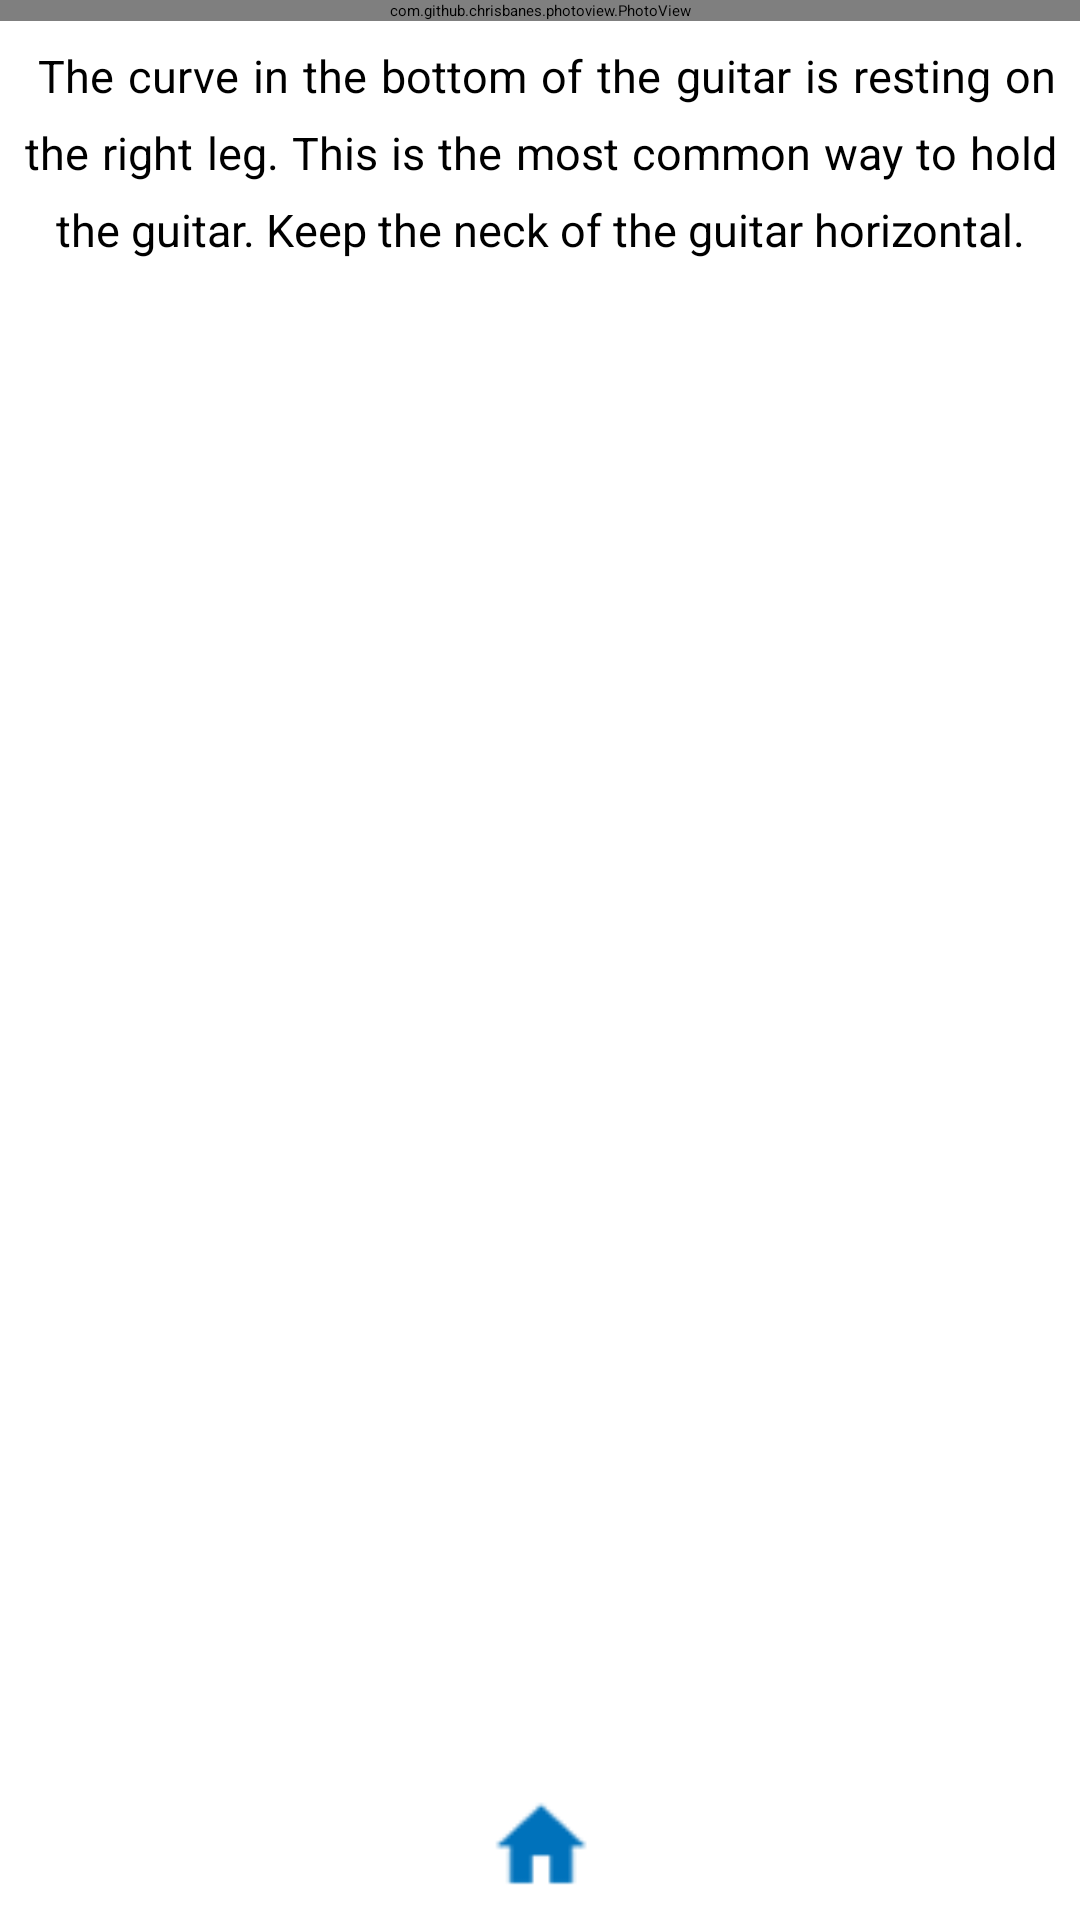

Screen size 1080×1920. Icon name, then its box in pixels as [x1=x1, y1=y1, x2=x2, y2=y2]:
home: [x1=496, y1=1803, x2=586, y2=1884]
